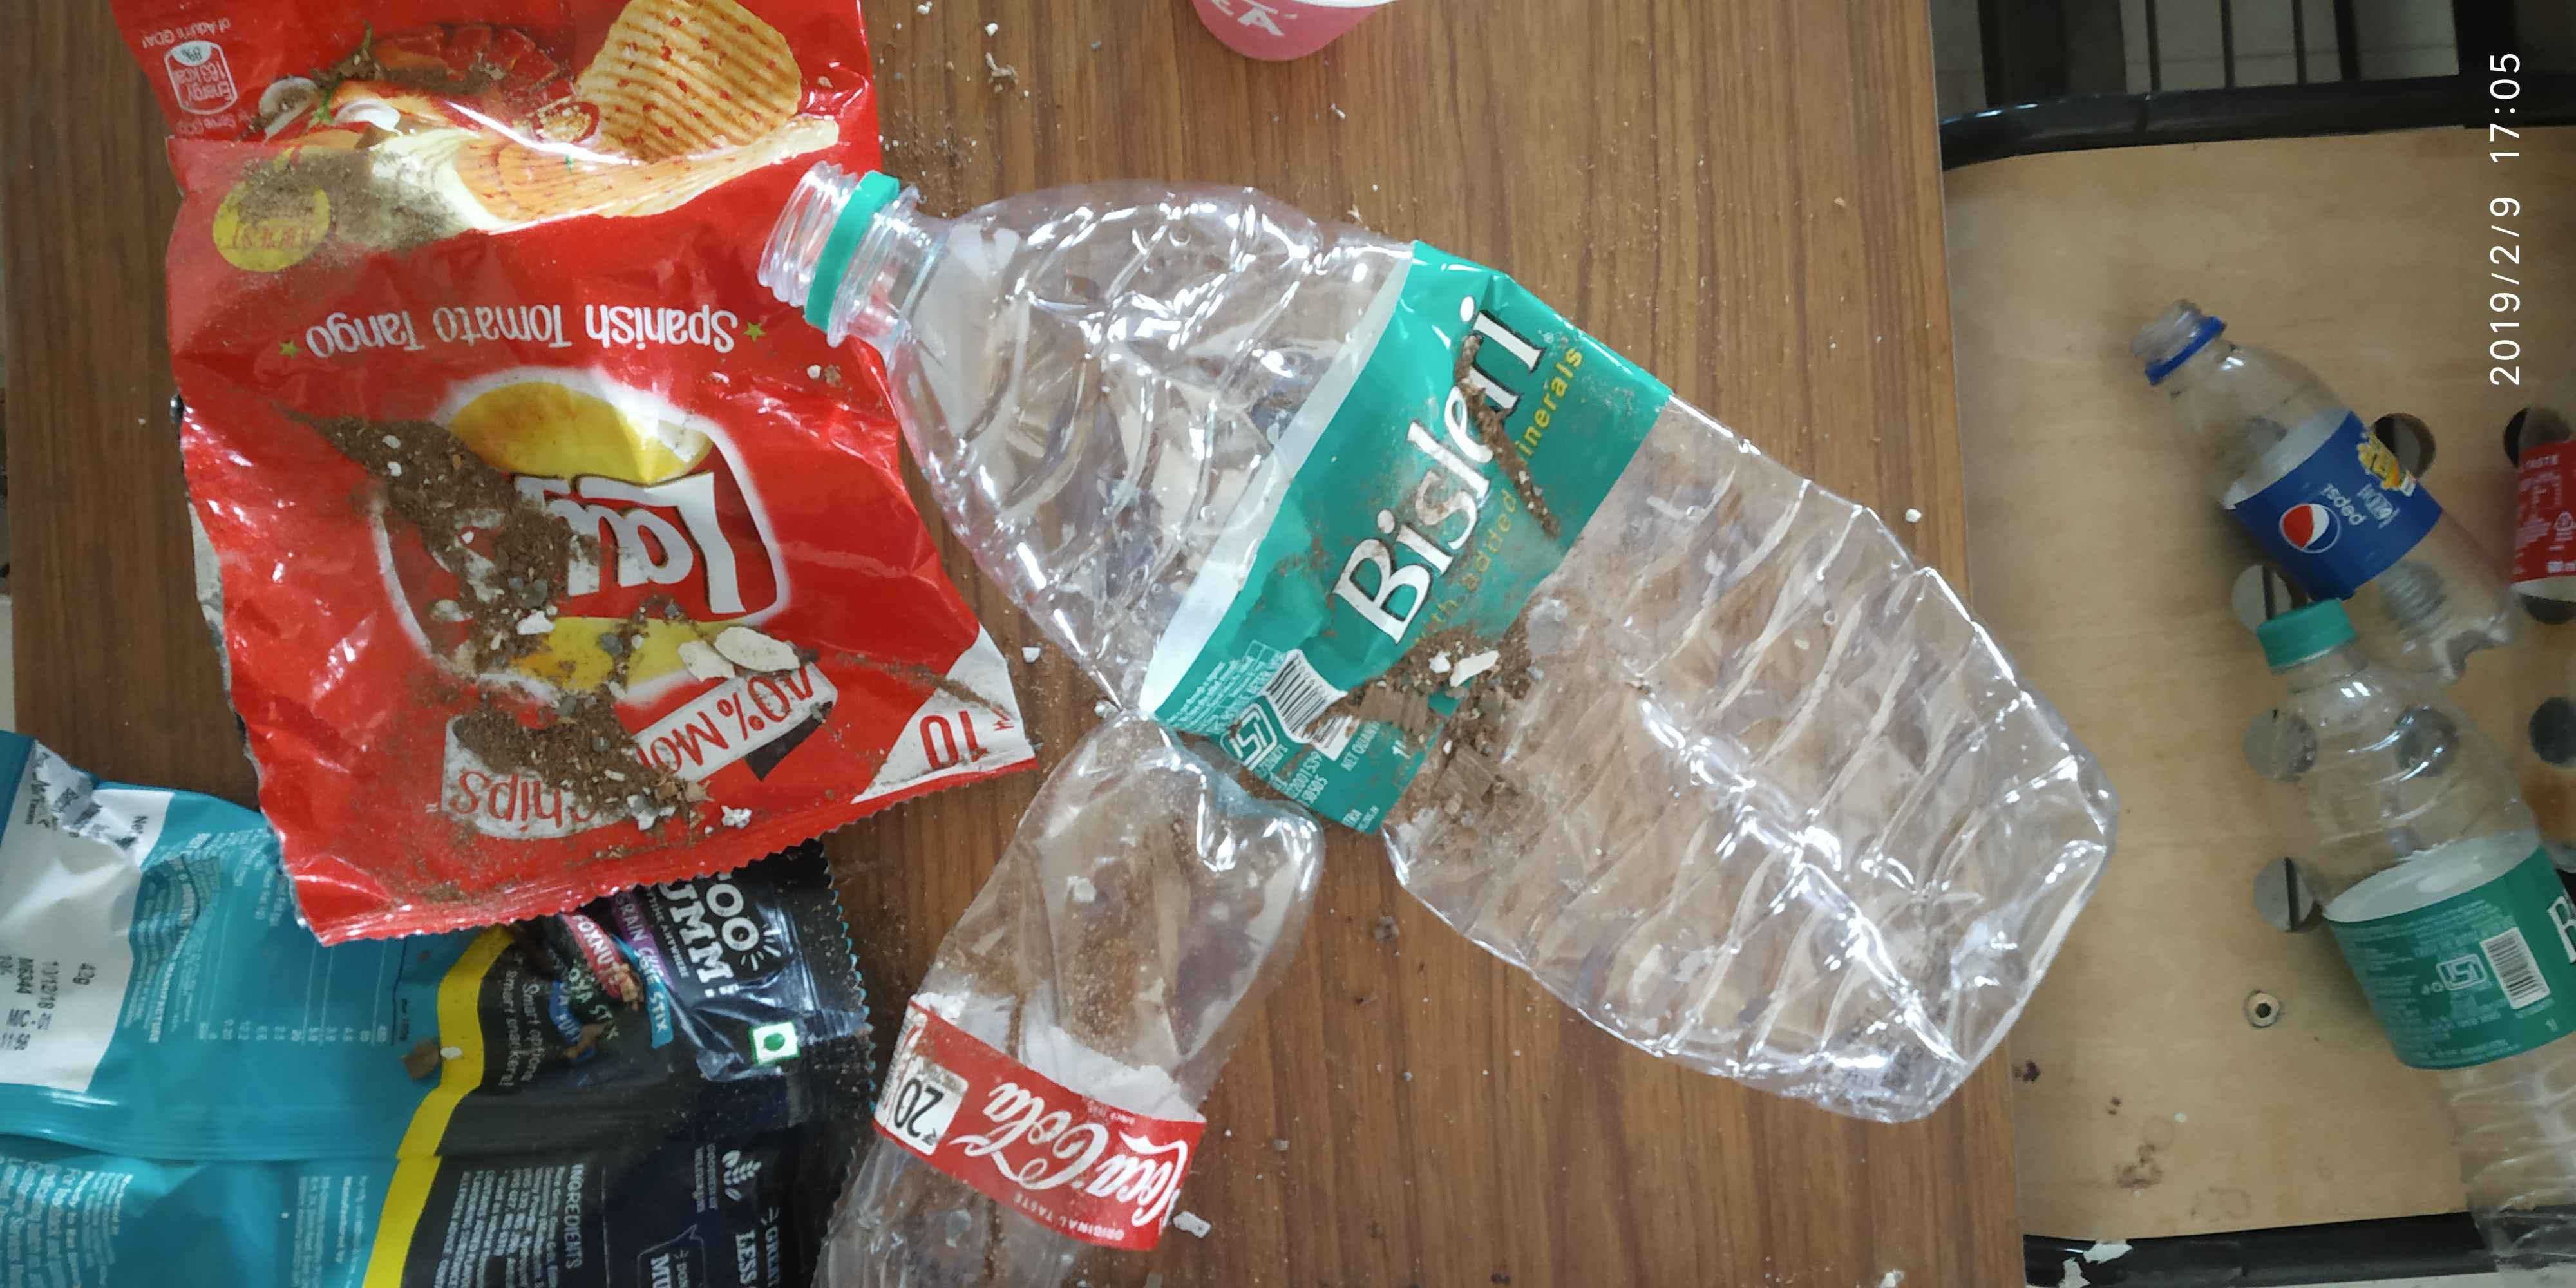Bisleri: (1299, 294, 1584, 680), (2415, 885, 2576, 1058)
Coca-Cola: (951, 1066, 1198, 1239)
Lays: (340, 352, 823, 662)
pepsi: (2269, 473, 2382, 572)
tooyumm: (651, 846, 823, 1005)
